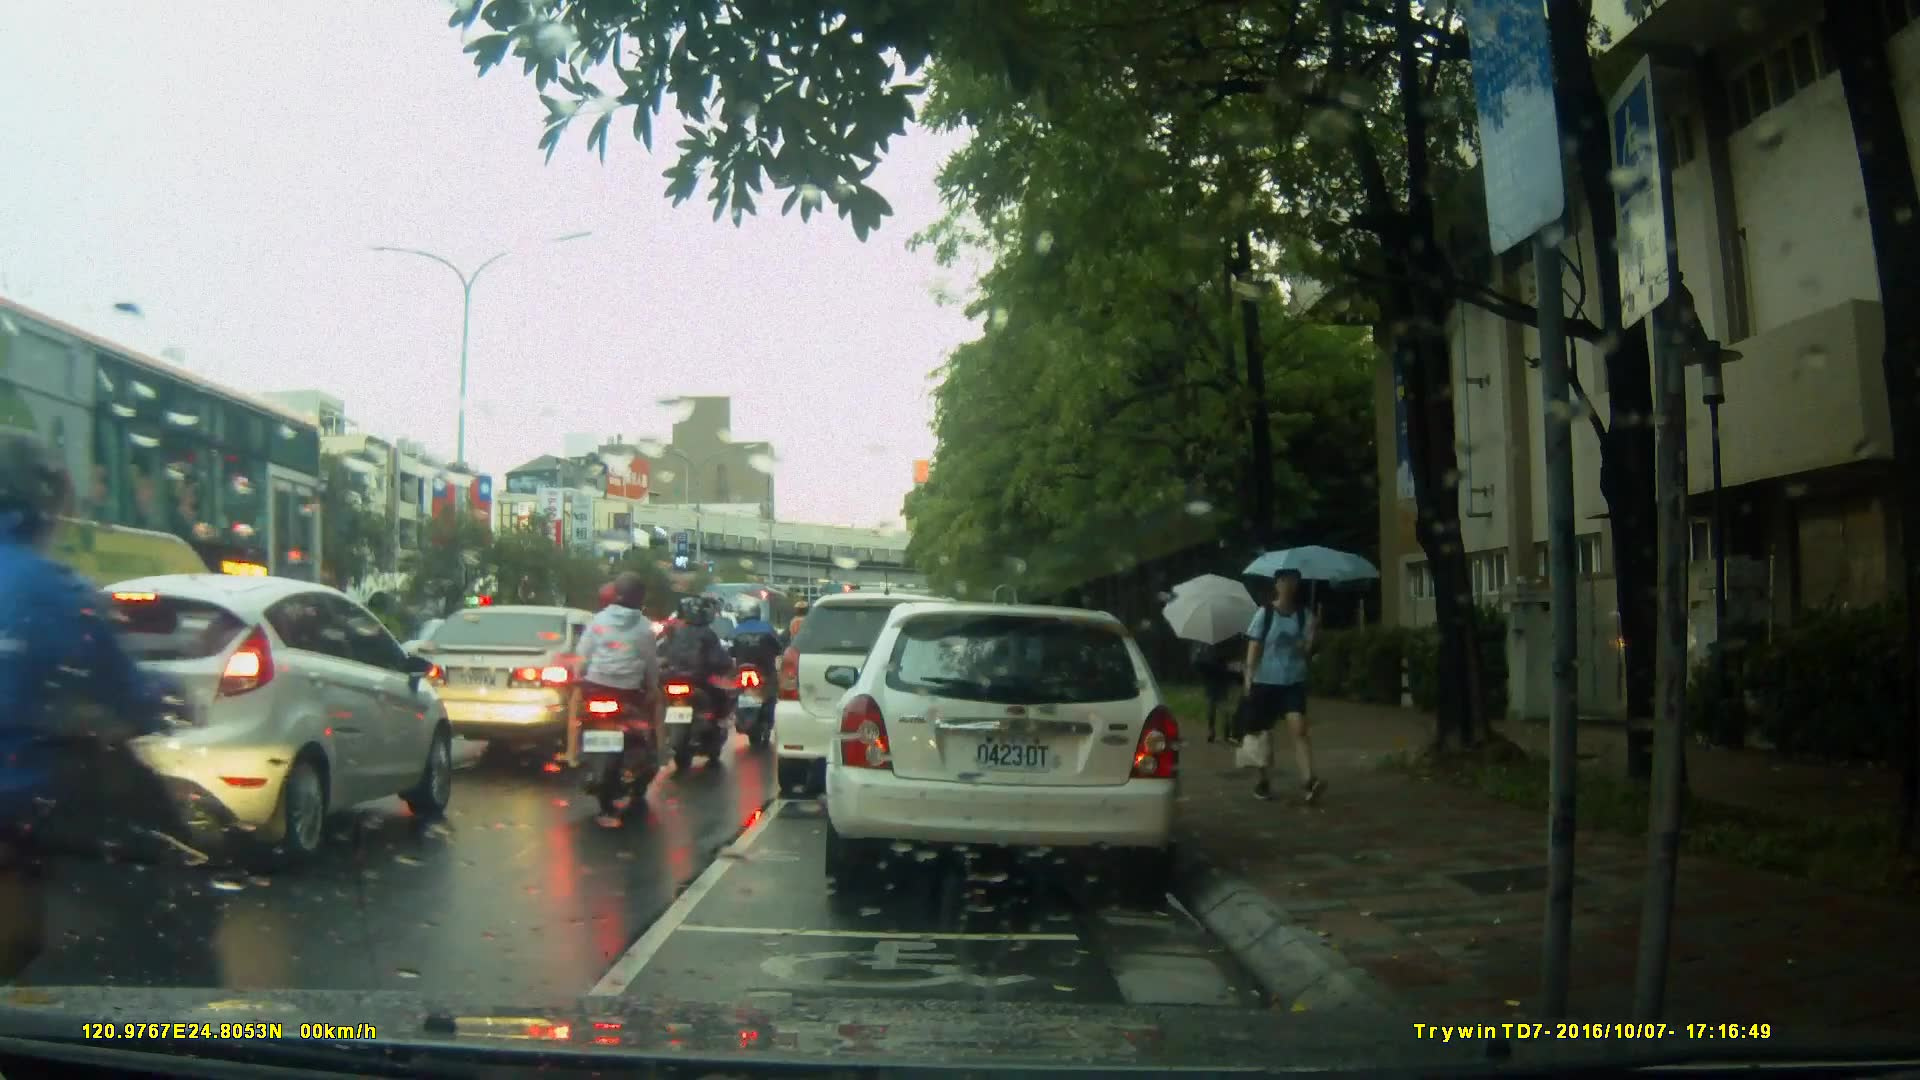pedestrian: (1229, 555, 1326, 814), (1203, 598, 1253, 740)
rider: (1, 423, 240, 1065), (565, 569, 672, 831), (662, 592, 726, 778), (725, 594, 784, 745), (787, 598, 824, 730)
vehicle: (1, 293, 332, 765), (17, 570, 456, 872), (835, 594, 1194, 898), (776, 590, 1026, 784), (384, 603, 643, 766), (603, 619, 728, 716), (705, 582, 809, 672)
